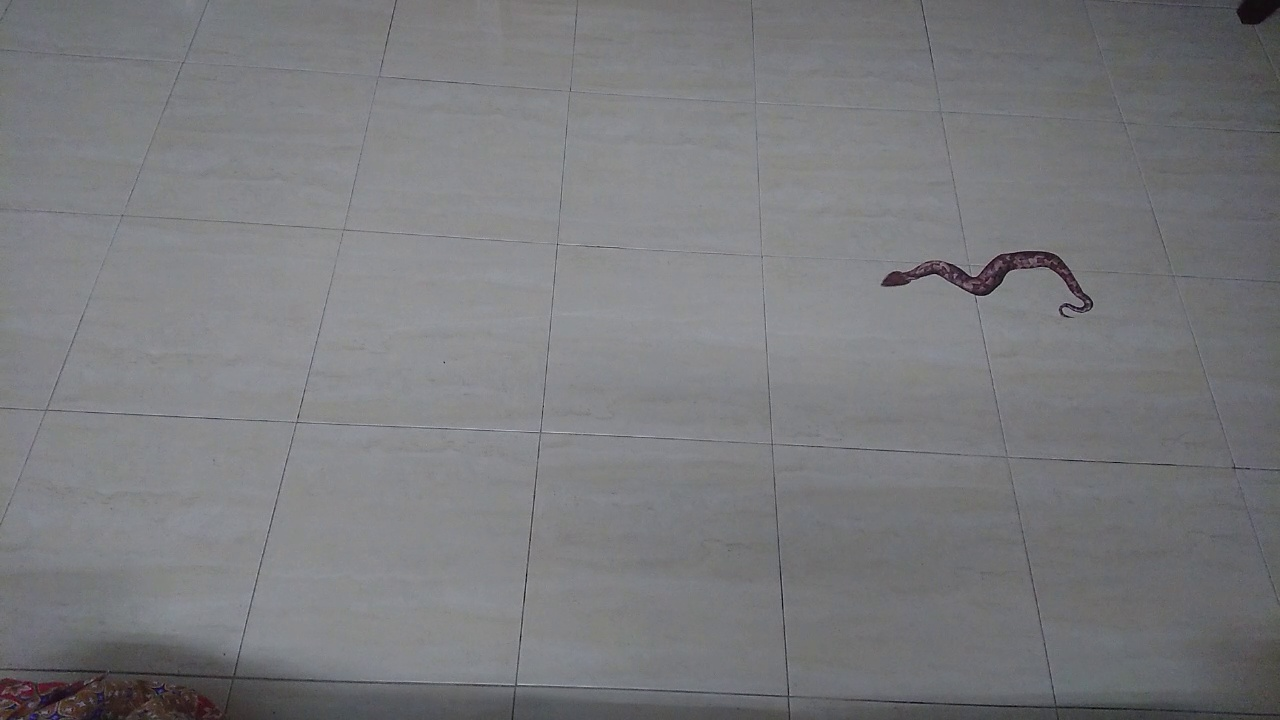snake: (864, 235, 1108, 332)
